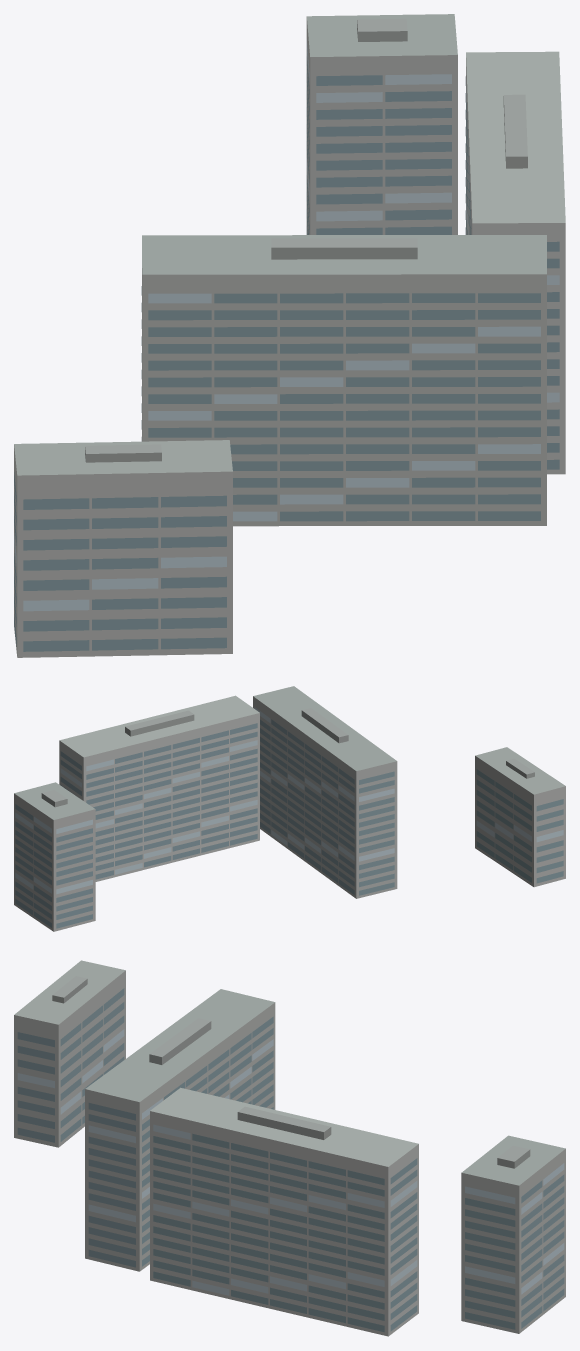
Rendered from apt-a15703001.glb.
3 views of the same model, one above another, from view 1: azimuth 30°, elevation 25°; view 2: azimuth 150°, elevation 25°; view 3: azimuth 270°, elevation 25° (orthographic). The views are drawn at different scales.
Parts seen in each view (by area): view 1: apt-a15703001; view 2: apt-a15703001; view 3: apt-a15703001.
Boxes of the visible parts, box(x1,y1,x2,y2) form: apt-a15703001: box(14, 14, 565, 657); apt-a15703001: box(14, 686, 565, 931); apt-a15703001: box(14, 960, 565, 1336).
Bounding box in the file's own units: 122 × 40 × 113.
